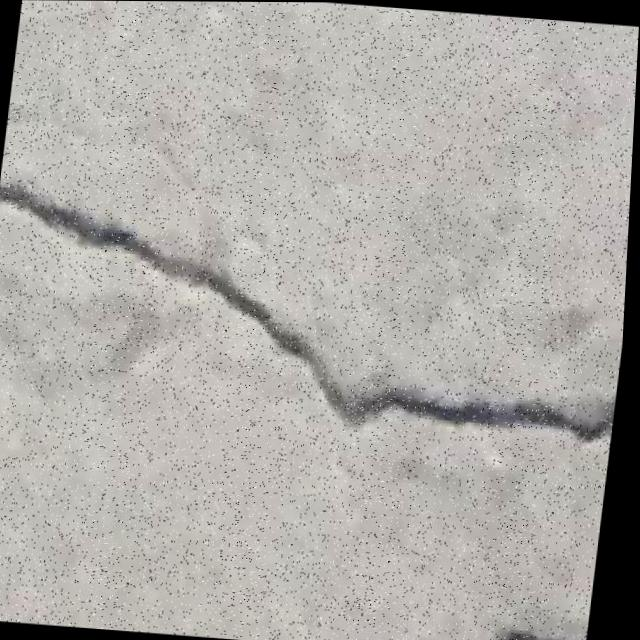Crack: (0, 172, 633, 481)
